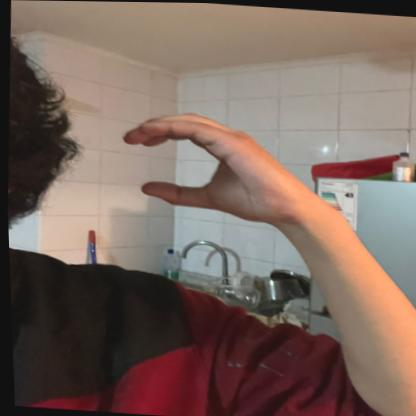C: (114, 102, 306, 227)
